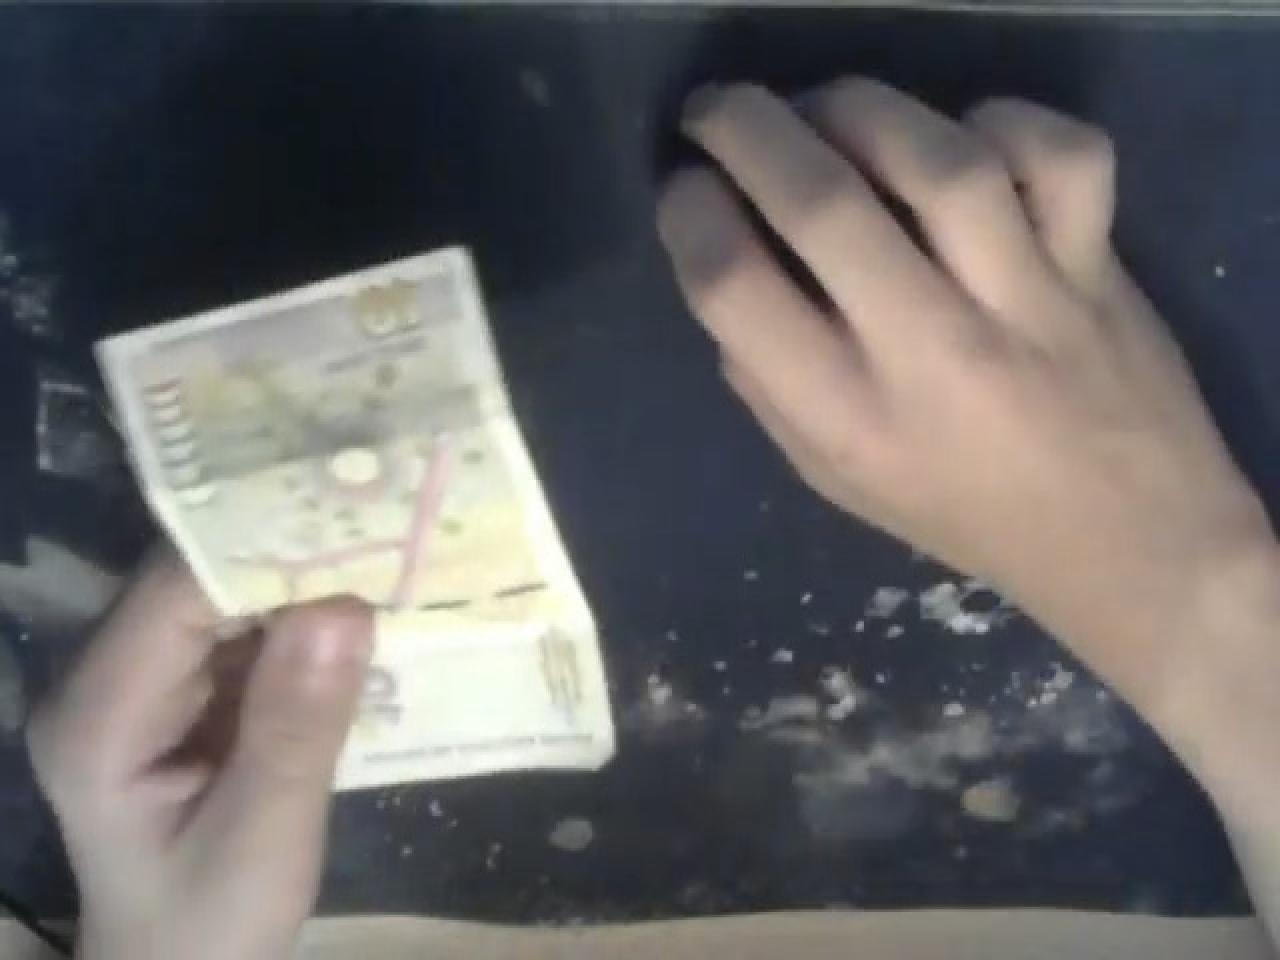10leva: (90, 237, 618, 800)
